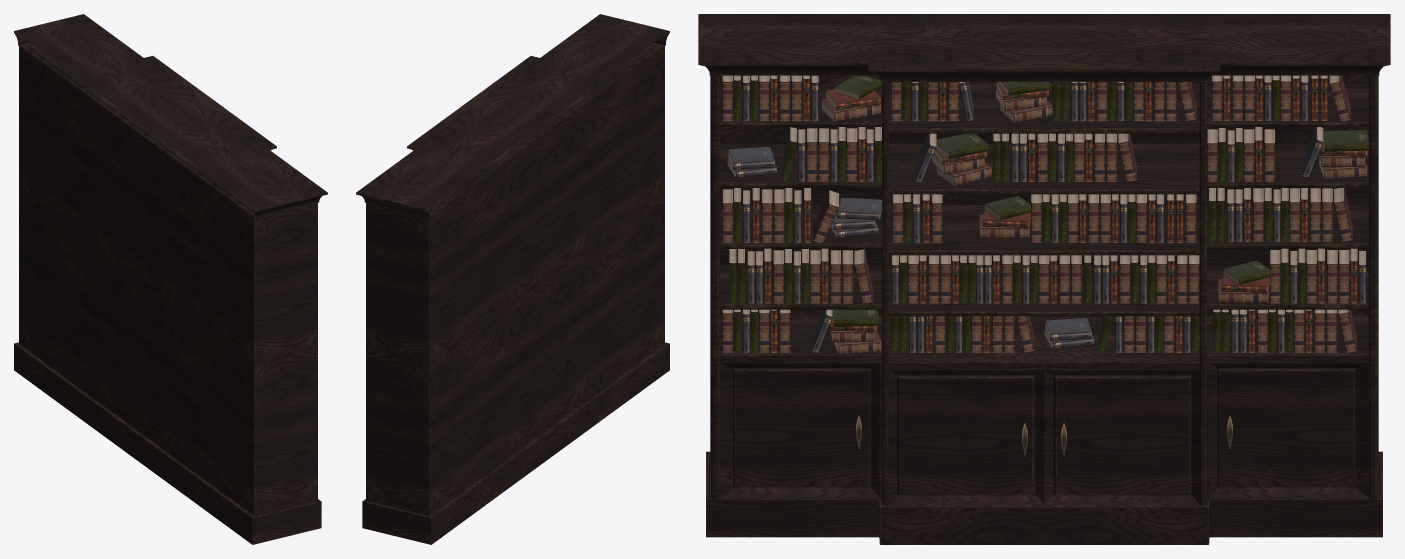
The model's file is victorian_bookshelf.glb.
The picture shows the model from 3 angles, left to right: view 1: azimuth 30°, elevation 25°; view 2: azimuth 150°, elevation 25°; view 3: azimuth 270°, elevation 25°; orthographic projection. The views are drawn at different scales.
Parts seen in each view (by area): view 1: pCube286_lambert1_0_4; view 2: pCube286_lambert1_0_4; view 3: pCube286_lambert1_0_4.
Boxes of the visible parts, x1,y1,x2,y2 form: pCube286_lambert1_0_4: [14, 14, 327, 544]; pCube286_lambert1_0_4: [356, 14, 669, 544]; pCube286_lambert1_0_4: [698, 14, 1390, 544].
Bounding box in the file's own units: 0.5817 × 2.29 × 3.01.
1 material, 1 textured.
